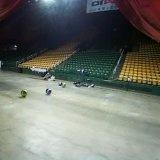Green_Balloon: (21, 90, 27, 98), (62, 83, 66, 88)
Purple_Balloon: (46, 89, 52, 95), (58, 82, 62, 86)
